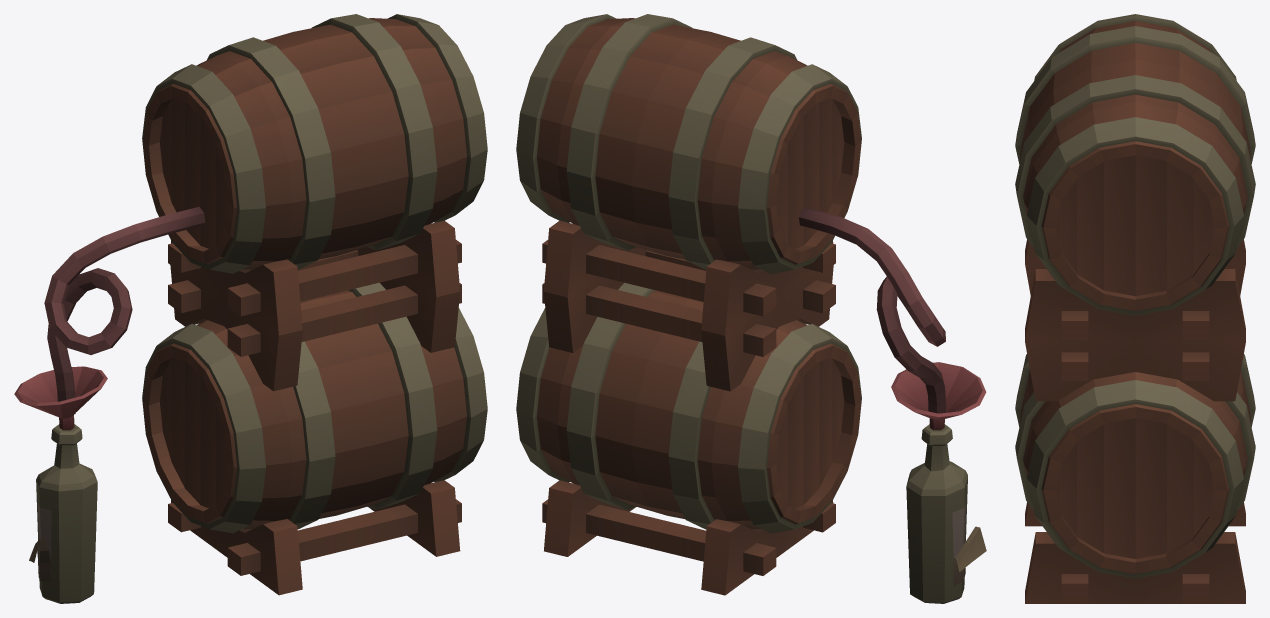
File: SM_EN_WineFunnelStation.fbx
3 renders of one model, left to right at view 1: azimuth 30°, elevation 25°; view 2: azimuth 150°, elevation 25°; view 3: azimuth 270°, elevation 25°, orthographic.
Visible parts, largest first — view 1: SM_EN_WineFunnelStation; view 2: SM_EN_WineFunnelStation; view 3: SM_EN_WineFunnelStation.
Boxes of the visible parts, <box> form: SM_EN_WineFunnelStation: <box>14,14,487,603</box>; SM_EN_WineFunnelStation: <box>516,14,986,603</box>; SM_EN_WineFunnelStation: <box>1015,14,1255,603</box>.
Size of the model in its own units: 169 by 82.99 by 191.
